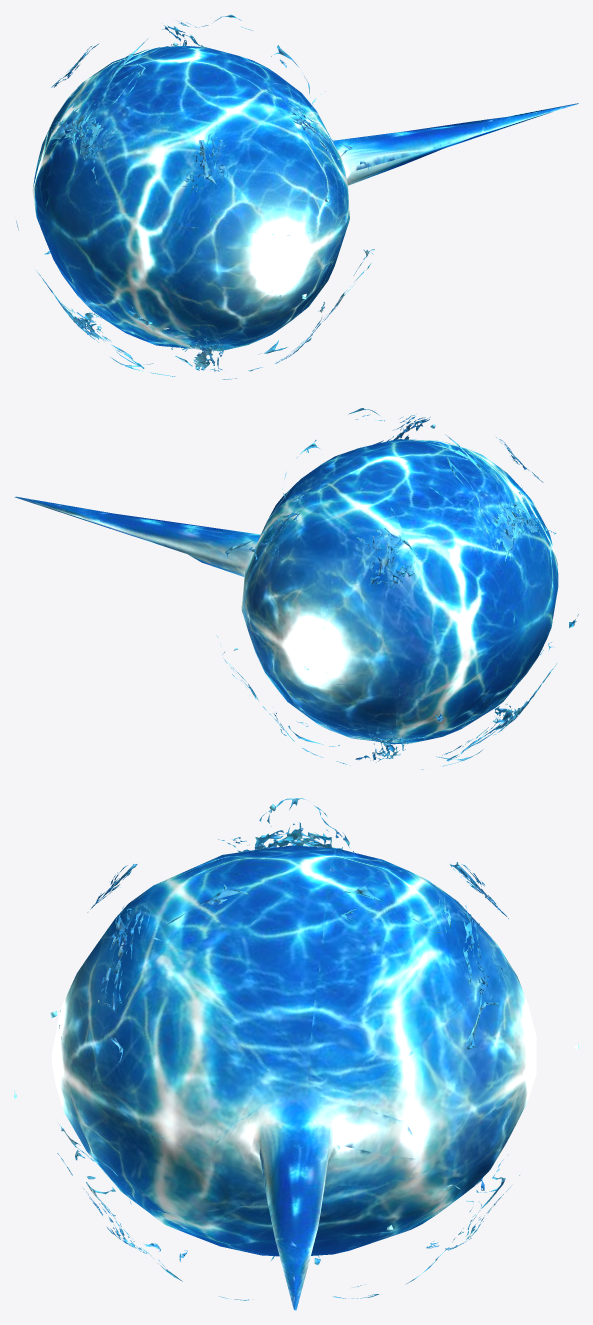
File: proj_cannon.glb
3 views of the same model, one above another, from view 1: azimuth 30°, elevation 25°; view 2: azimuth 150°, elevation 25°; view 3: azimuth 270°, elevation 25° (orthographic). The views are drawn at different scales.
Parts seen in each view (by area): view 1: mesh_node; view 2: mesh_node; view 3: mesh_node.
Part boxes in pixels (box(x1,y1,x2,y2)): mesh_node: box(16, 14, 578, 379); mesh_node: box(14, 408, 578, 769); mesh_node: box(14, 798, 578, 1310).
Size of the model in its own units: 1.81 by 1.11 by 1.24.
Materials: 1 (1 with a texture image).
